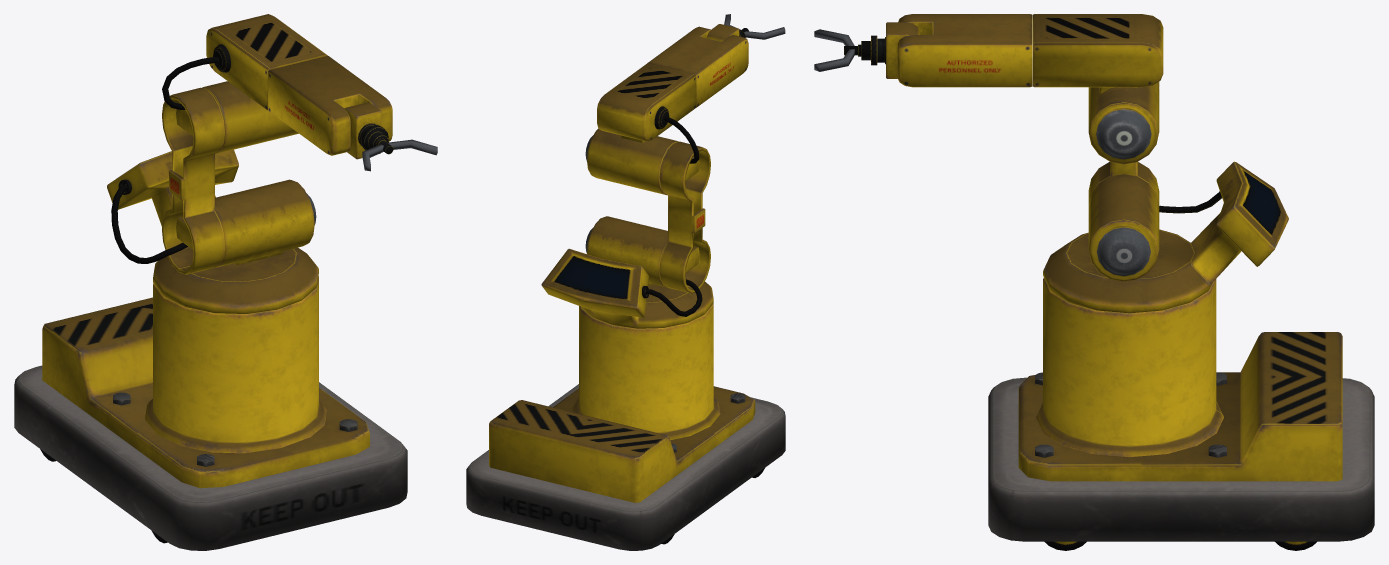
File: maquina1.gltf
3 views of the same model, side by side, from view 1: azimuth 30°, elevation 25°; view 2: azimuth 150°, elevation 25°; view 3: azimuth 270°, elevation 25° (orthographic). The views are drawn at different scales.
Size of the model in its own units: 3.76 by 7.11 by 7.57.
1 material, 1 textured.
